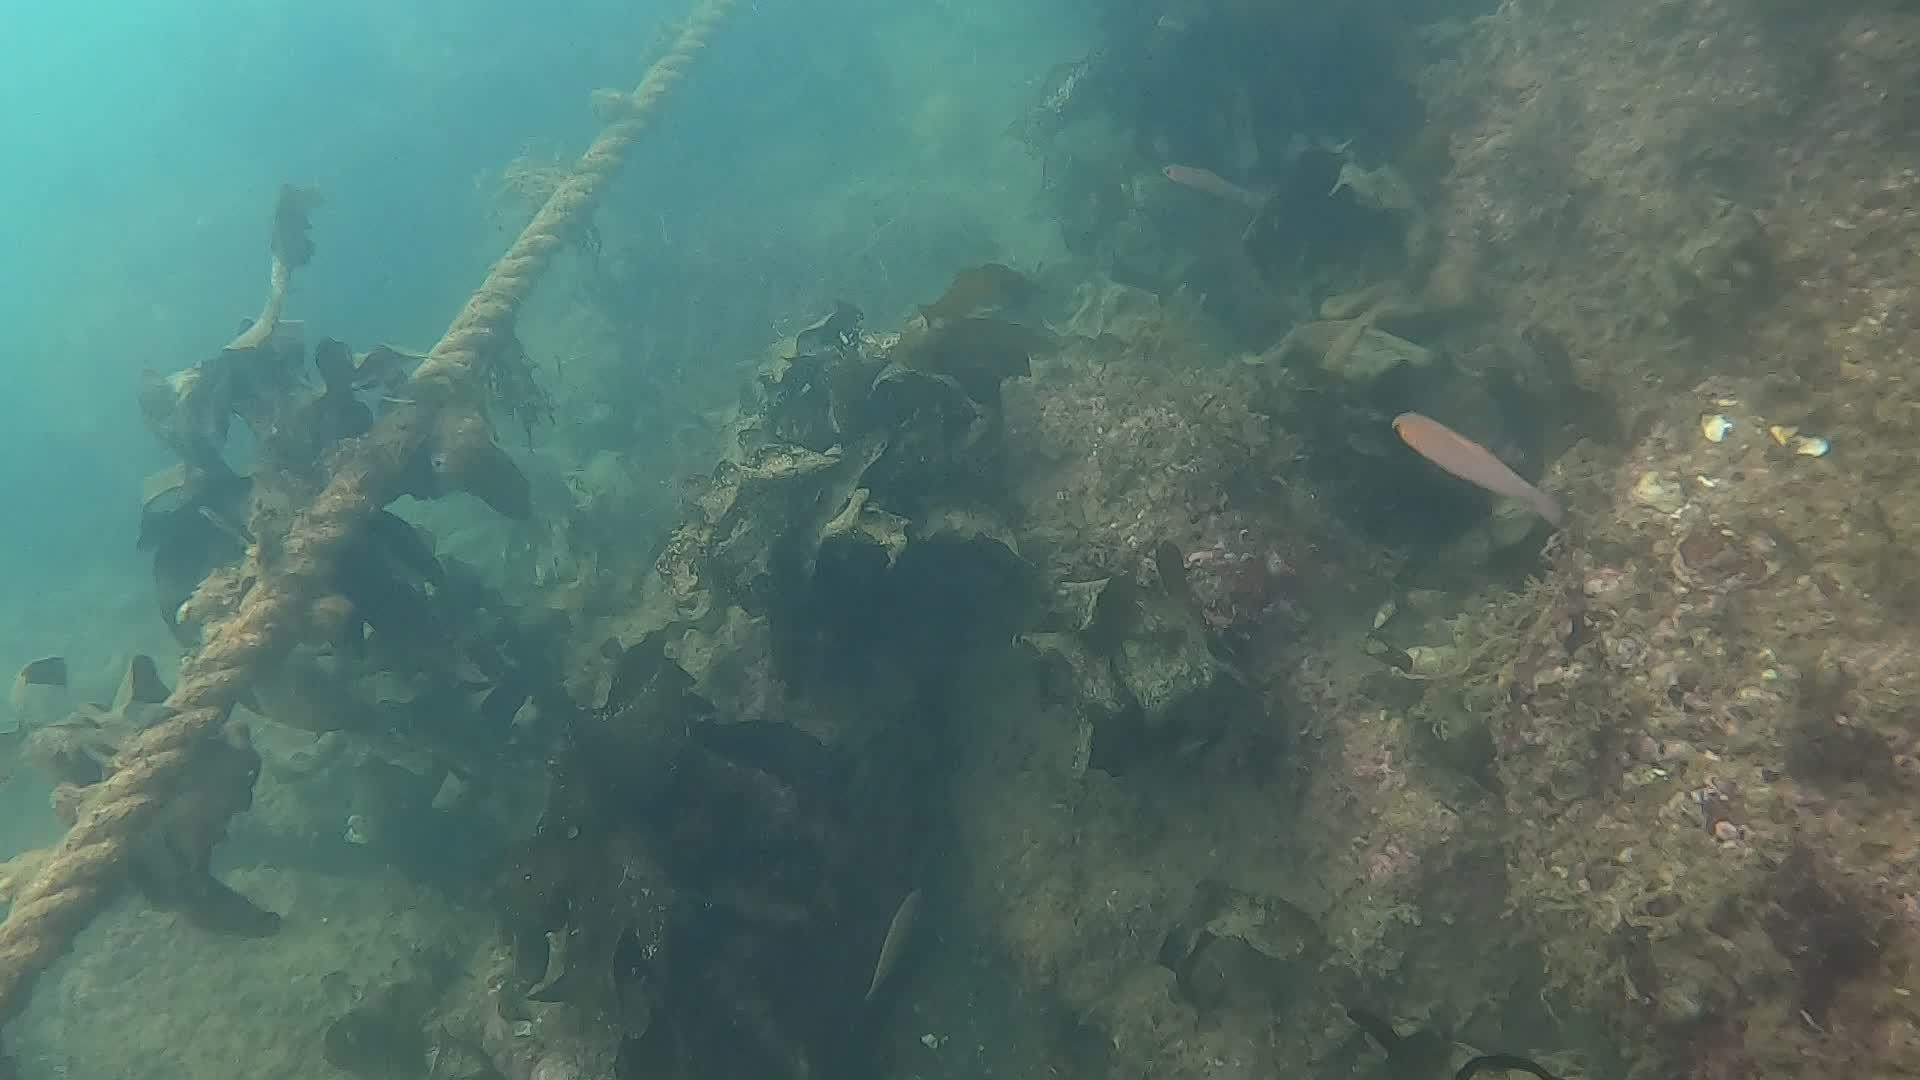rope: (0, 0, 729, 1025)
